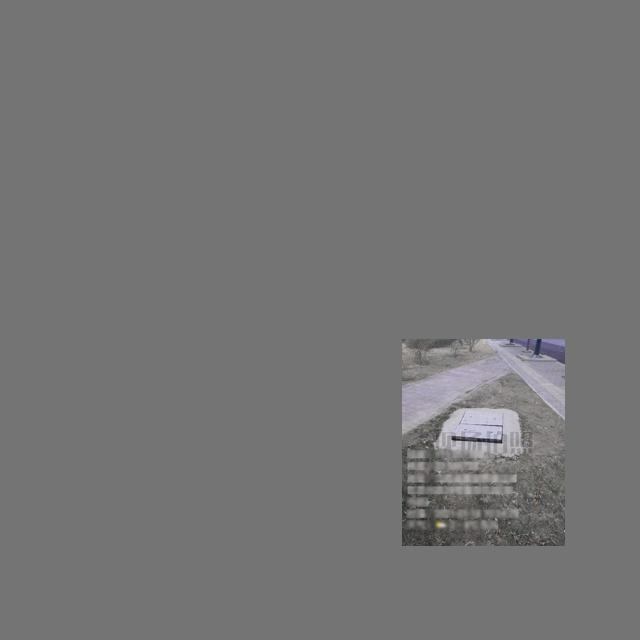uncovered: (450, 409, 505, 445)
